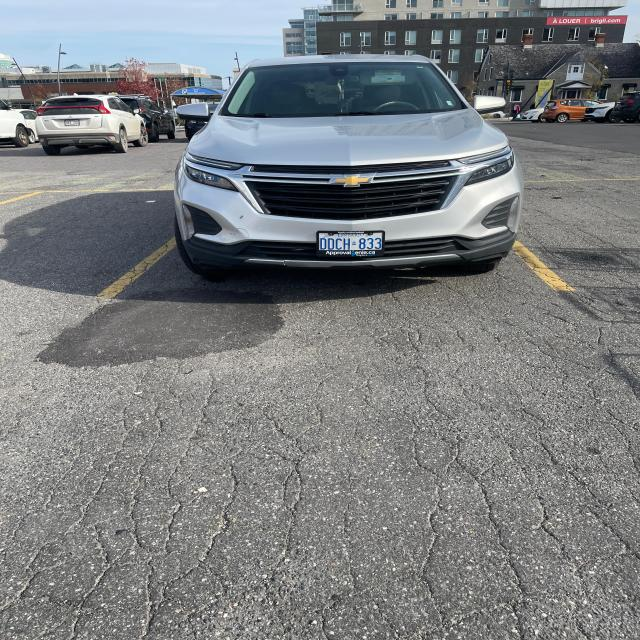plaque: (317, 232, 384, 257), (64, 120, 80, 126)
